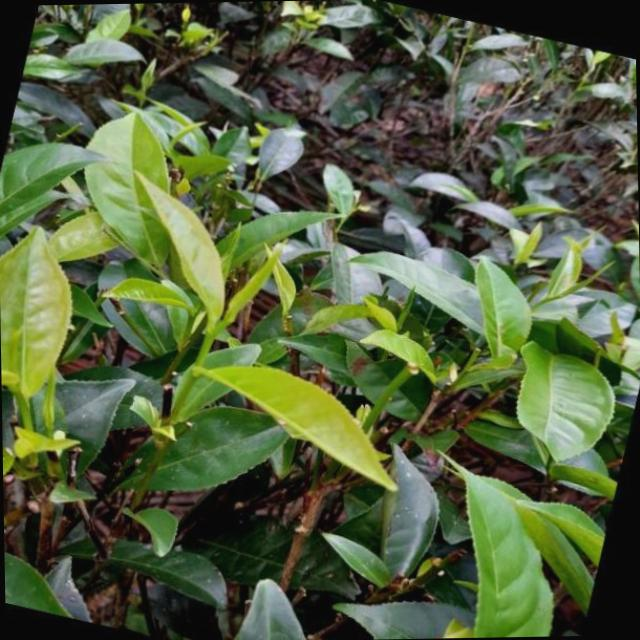Stem: (206, 332, 213, 340)
